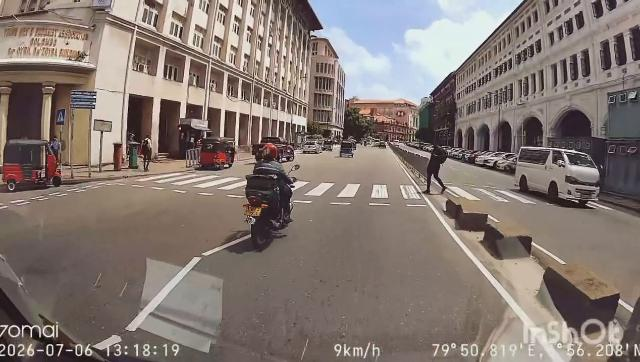number plate: (242, 201, 269, 221)
